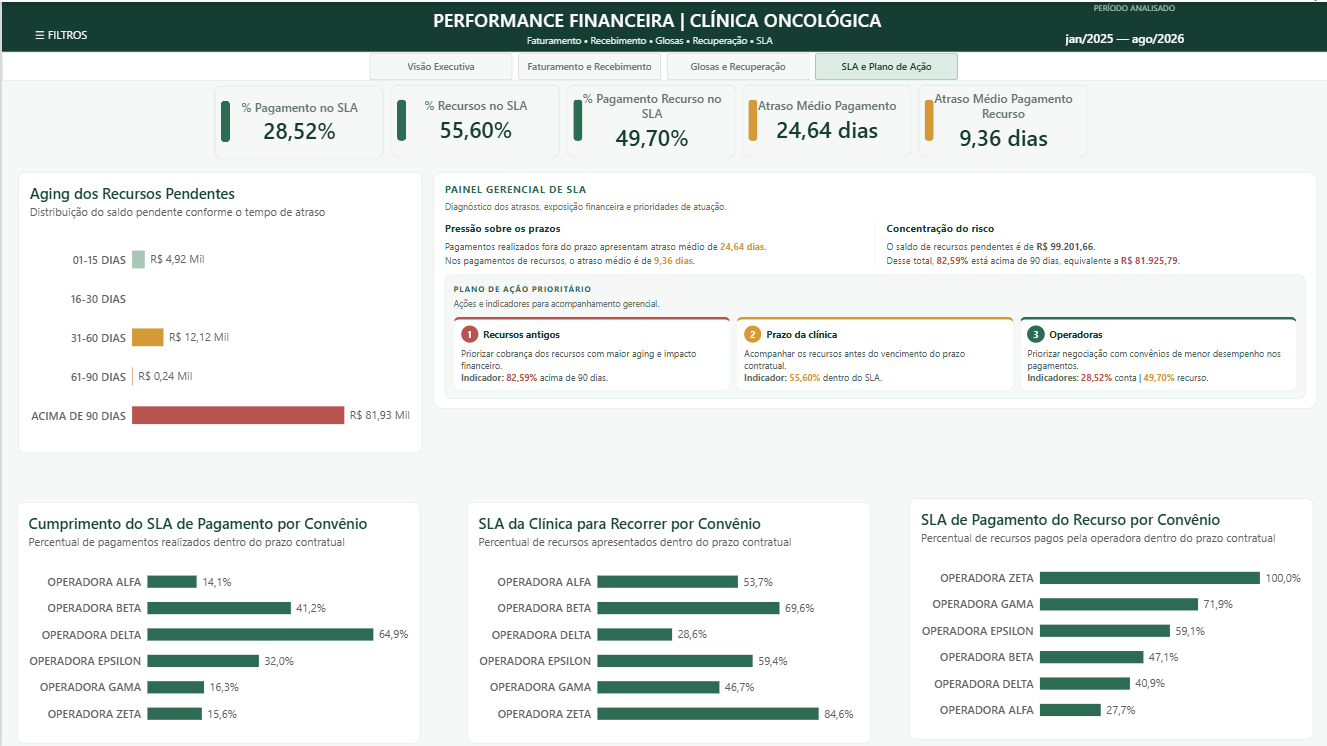

The dashboard page shown, as its layout file describes it:
{"tool":"powerbi","page":{"name":"SLA e Plano de Ação","canvas":[1920,1080],"ordinal":3},"visuals":[{"type":"shape","box":[0,0,2560,72],"z":0,"group":"g1"},{"type":"group","id":"g1","title":"Cabeçalho","box":[0,0,2560,114.4],"z":0},{"type":"cardVisual","fields":{"Data":["00_Medidas.% Recursos no SLA"]},"box":[563.6,120,245,105.6],"z":0,"group":"g3"},{"type":"cardVisual","fields":{"Data":["00_Medidas.% Pagamento Recurso no SLA"]},"box":[818.5,120,245,105.6],"z":0,"group":"g4"},{"type":"cardVisual","fields":{"Data":["00_Medidas.Atraso Médio Pagamento"]},"box":[1072.1,120.2,245,105.6],"z":0,"group":"g5"},{"type":"cardVisual","fields":{"Data":["00_Medidas.Atraso Médio Pagamento Recurso"]},"box":[1325.9,120.2,245,105.6],"z":0,"group":"g6"},{"type":"cardVisual","fields":{"Data":["00_Medidas.% Pagamento no SLA"]},"box":[308,121,245,105.6],"z":0,"group":"g2"},{"type":"textbox","box":[624.3,7.2,669.6,57.9],"z":1000,"group":"g1"},{"type":"actionButton","box":[24,18,124,58],"z":1000},{"type":"shape","box":[572.1,141.1,13.4,60],"z":1000,"group":"g3"},{"type":"shape","box":[827,141.1,13.4,60],"z":1000,"group":"g4"},{"type":"shape","box":[1080.6,141.3,13.4,60],"z":1000,"group":"g5"},{"type":"shape","box":[1334.4,141.3,13.4,60],"z":1000,"group":"g6"},{"type":"shape","box":[317.2,142.9,13.4,60],"z":1000,"group":"g2"},{"type":"textbox","box":[760,45.2,399.9,43.4],"z":2000,"group":"g1"},{"type":"cardVisual","title":"PERÍODO ANALISADO","fields":{"Data":["00_Medidas.Período Selecionado"]},"box":[1523.7,0,231.6,72.4],"z":3000,"group":"g1"},{"type":"group","id":"g2","title":"Card 1","box":[308,121,245,105.6],"z":3000},{"type":"shape","box":[0,72.4,2560,42],"z":4000,"group":"g1"},{"type":"group","id":"g3","title":"Card 1","box":[563.6,120,246,106],"z":4000},{"type":"pageNavigator","box":[532,74.2,854.2,39.8],"z":5000,"group":"g1"},{"type":"group","id":"g4","title":"Card 1","box":[818.5,120,246,106],"z":5000},{"type":"group","id":"g5","title":"Card 1","box":[1072.1,120.2,246,106],"z":6000},{"type":"group","id":"g6","title":"Card 1","box":[1325.9,120.2,246,106],"z":7000},{"type":"clusteredBarChart","title":"Aging dos Recursos Pendentes","fields":{"Category":["Dim_Aging_Recurso.FAIXA_AGING_RECURSO"],"Y":["00_Medidas.Recurso Pendente"]},"box":[23.5,246.1,584.5,407.2],"z":8000},{"type":"clusteredBarChart","title":"SLA da Clínica para Recorrer por Convênio","fields":{"Category":["base_analitica_oncologia.NM_CONVENIO_PADRAO"],"Y":["00_Medidas.% Recursos no SLA"]},"box":[673.6,723.9,584.5,349.3],"z":9000},{"type":"clusteredBarChart","title":"SLA de Pagamento do Recurso por Convênio","fields":{"Category":["base_analitica_oncologia.NM_CONVENIO_PADRAO"],"Y":["00_Medidas.% Pagamento Recurso no SLA"]},"box":[1314.2,718.4,584.5,349.3],"z":10000},{"type":"clusteredBarChart","title":"Cumprimento do SLA de Pagamento por Convênio","fields":{"Category":["base_analitica_oncologia.NM_CONVENIO_PADRAO"],"Y":["00_Medidas.% Pagamento no SLA"]},"box":[22.1,723.9,584,349.3],"z":11000},{"type":"htmlContent443BE3AD55E043BF878BED274D3A6855","fields":{"content":["00_Medidas.HTML Painel Gerencial SLA"]},"box":[608,231.6,1312,459.7],"z":12000}]}

Visuals, with their boxes in screenshot pixels (x1, y1, x2, y2), scaled from the page's 1920x1080 canvas onto the 1327x746 screenshot:
shape: <box>0,0,1326,50</box>
"Cabeçalho" group: <box>0,0,1326,79</box>
cardVisual - 00_Medidas.% Recursos no SLA: <box>390,83,559,156</box>
cardVisual - 00_Medidas.% Pagamento Recurso no SLA: <box>566,83,735,156</box>
cardVisual - 00_Medidas.Atraso Médio Pagamento: <box>741,83,910,156</box>
cardVisual - 00_Medidas.Atraso Médio Pagamento Recurso: <box>916,83,1086,156</box>
cardVisual - 00_Medidas.% Pagamento no SLA: <box>213,84,382,157</box>
textbox: <box>431,5,894,45</box>
actionButton: <box>17,12,102,52</box>
shape: <box>395,97,405,139</box>
shape: <box>572,97,581,139</box>
shape: <box>747,98,756,139</box>
shape: <box>922,98,932,139</box>
shape: <box>219,99,228,140</box>
textbox: <box>525,31,802,61</box>
"PERÍODO ANALISADO" cardVisual: <box>1053,0,1213,50</box>
"Card 1" group: <box>213,84,382,157</box>
shape: <box>0,50,1326,79</box>
"Card 1" group: <box>390,83,560,156</box>
pageNavigator: <box>368,51,958,79</box>
"Card 1" group: <box>566,83,736,156</box>
"Card 1" group: <box>741,83,911,156</box>
"Card 1" group: <box>916,83,1086,156</box>
"Aging dos Recursos Pendentes" clusteredBarChart: <box>16,170,420,451</box>
"SLA da Clínica para Recorrer por Convênio" clusteredBarChart: <box>466,500,870,741</box>
"SLA de Pagamento do Recurso por Convênio" clusteredBarChart: <box>908,496,1312,738</box>
"Cumprimento do SLA de Pagamento por Convênio" clusteredBarChart: <box>15,500,419,741</box>
htmlContent443BE3AD55E043BF878BED274D3A6855 - 00_Medidas.HTML Painel Gerencial SLA: <box>420,160,1326,478</box>
